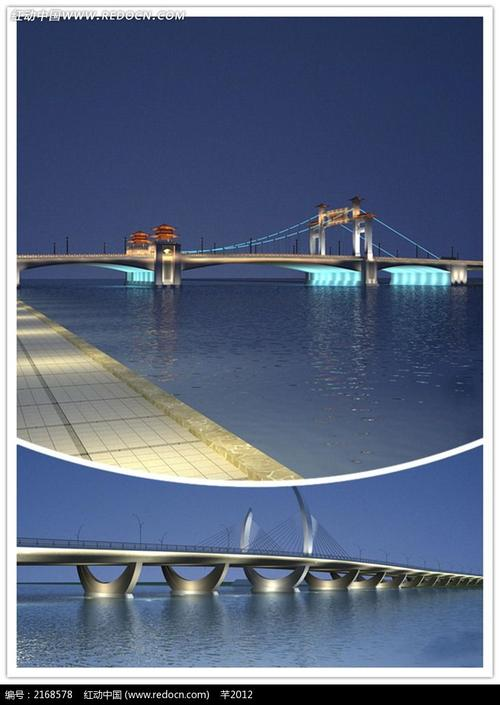sea_river: (134, 284, 468, 457)
